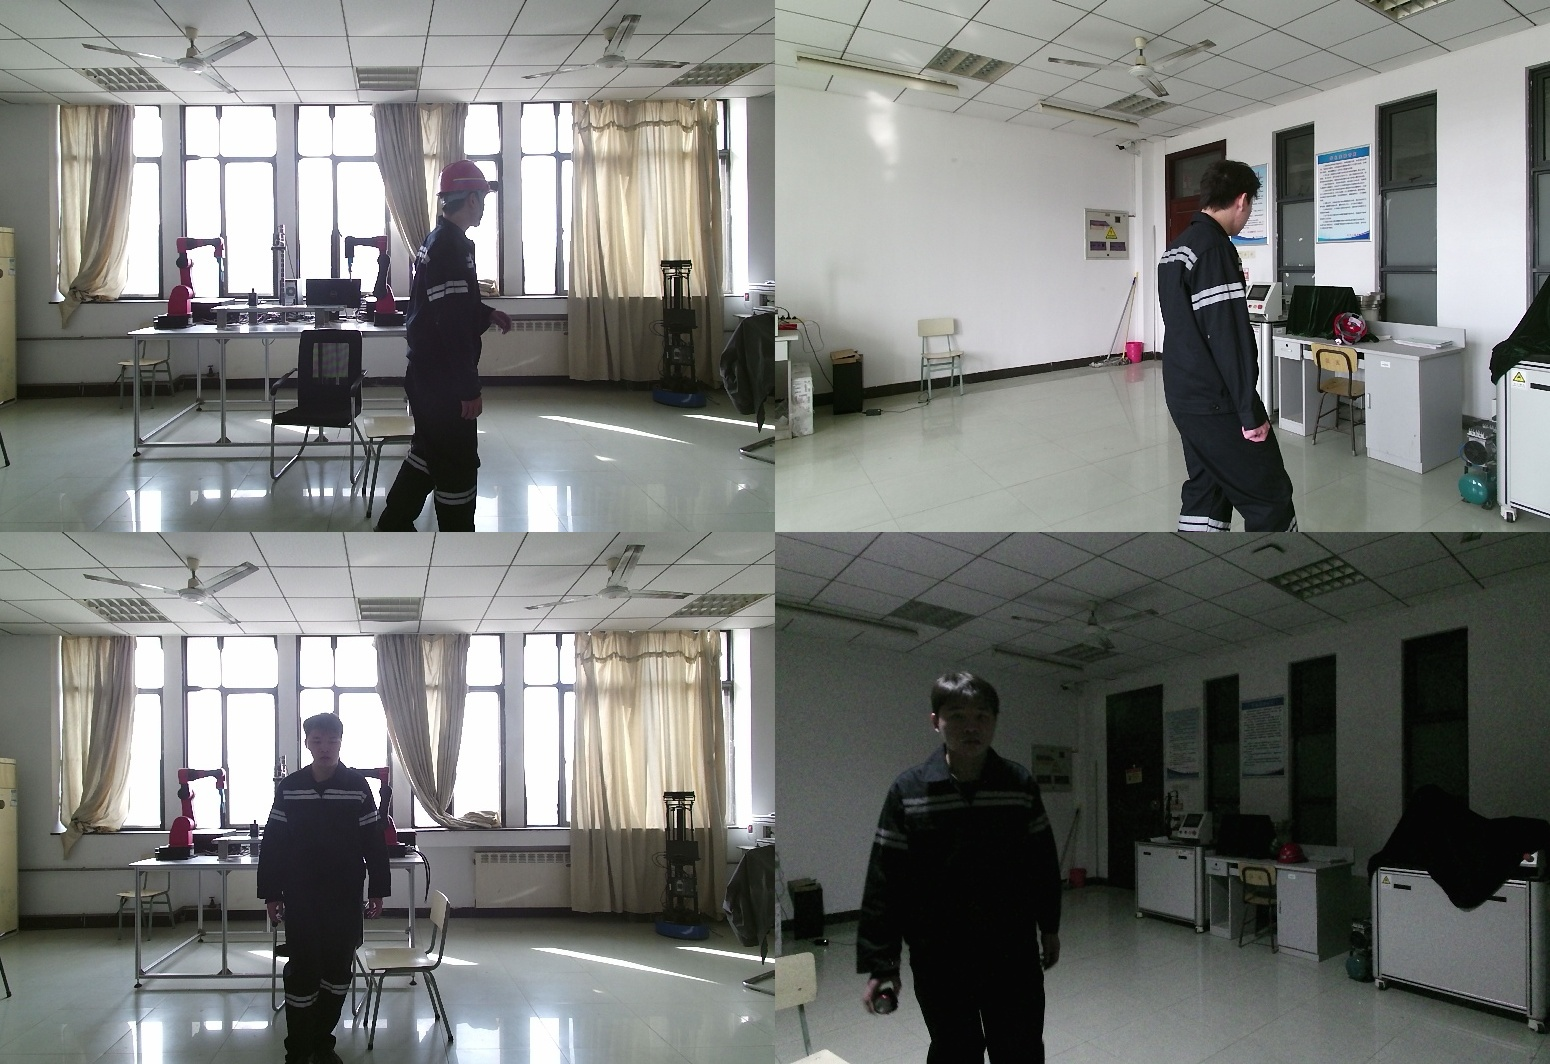person: (858, 673, 1073, 1064), (382, 161, 525, 532), (262, 712, 399, 1064), (1159, 156, 1287, 532)
